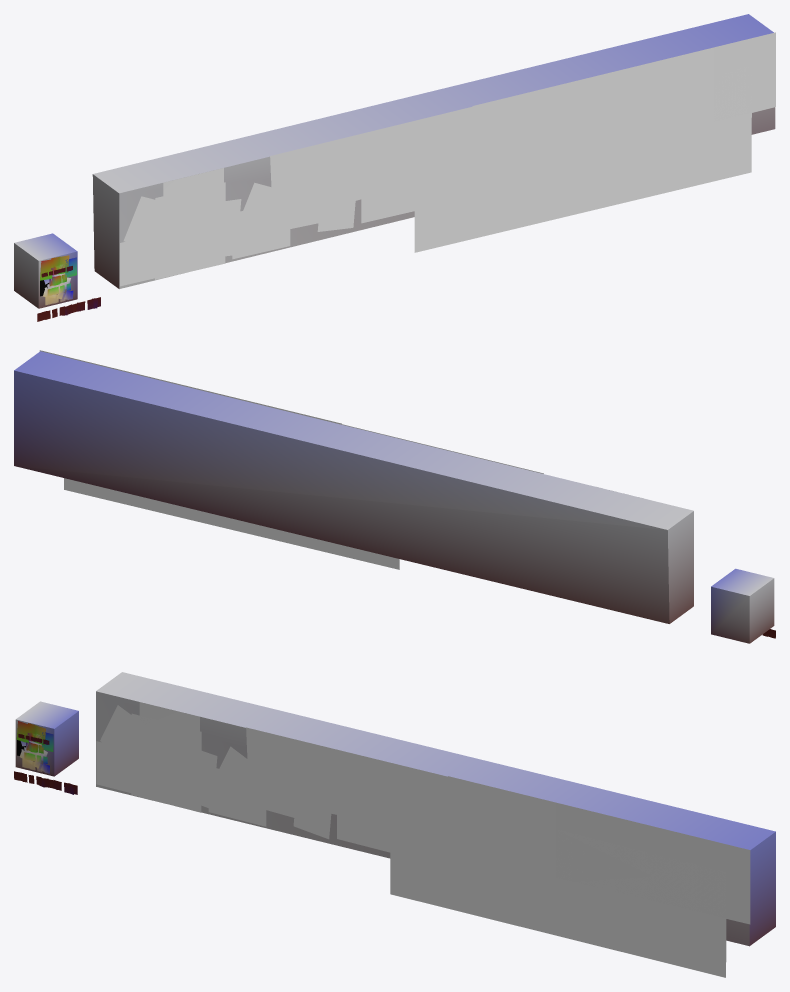
The picture shows the model from 3 angles, top to bottom: view 1: azimuth 30°, elevation 25°; view 2: azimuth 150°, elevation 25°; view 3: azimuth 330°, elevation 25°; orthographic projection.
Visible parts, largest first — view 1: Cube_002; view 2: Cube_002; view 3: Cube_002.
Boxes of the visible parts, left/top/right/bottom form: Cube_002: left=14, top=14, right=775, bottom=321; Cube_002: left=14, top=350, right=775, bottom=643; Cube_002: left=14, top=672, right=775, bottom=977.
Bounding box in the file's own units: 48.43 × 3.01 × 8.42.
